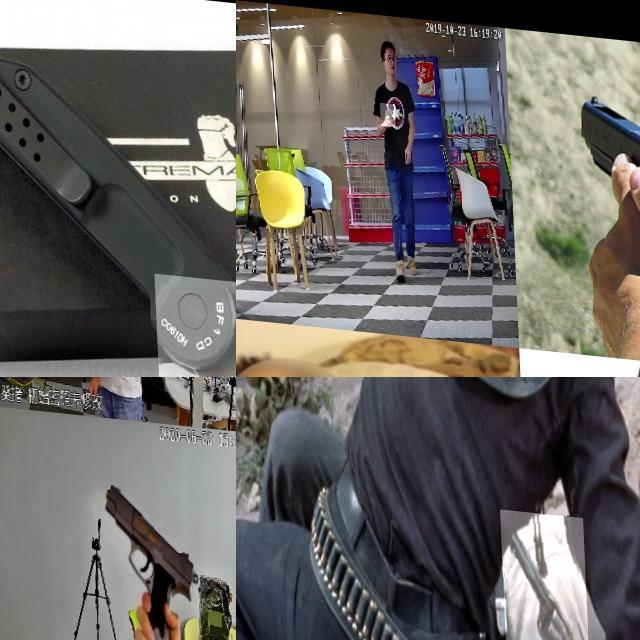gun-knife-thesis - v11 Yolov5 augmented: (98, 476, 197, 640), (496, 503, 587, 640), (572, 79, 640, 239), (73, 377, 105, 403), (379, 99, 395, 122)
